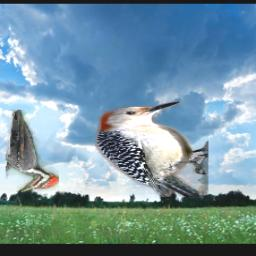Woodpecker: (95, 101, 208, 198), (7, 110, 60, 192)
